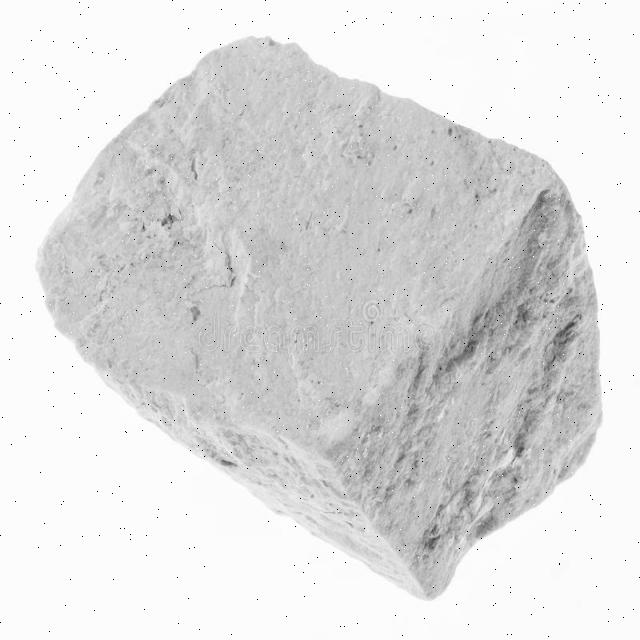Sedimentary: (27, 21, 616, 606)
